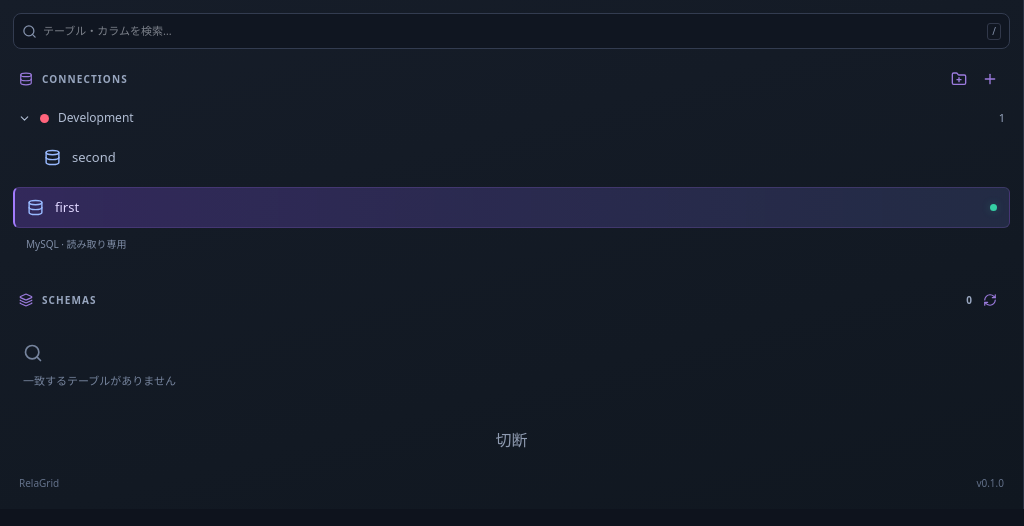
Scenario: opens the connection menu without connecting and deletes the right-clicked entry
This screenshot has width=1024, height=526.
Right-click the button "second" at [94, 157], box [30, 137, 1010, 178]
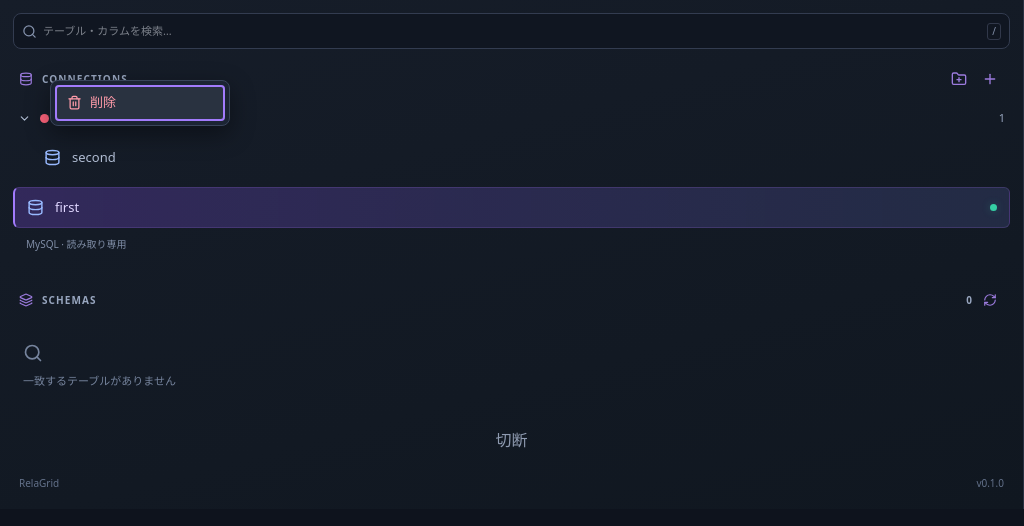
Press Escape in the menu item "削除", box [55, 85, 225, 120]
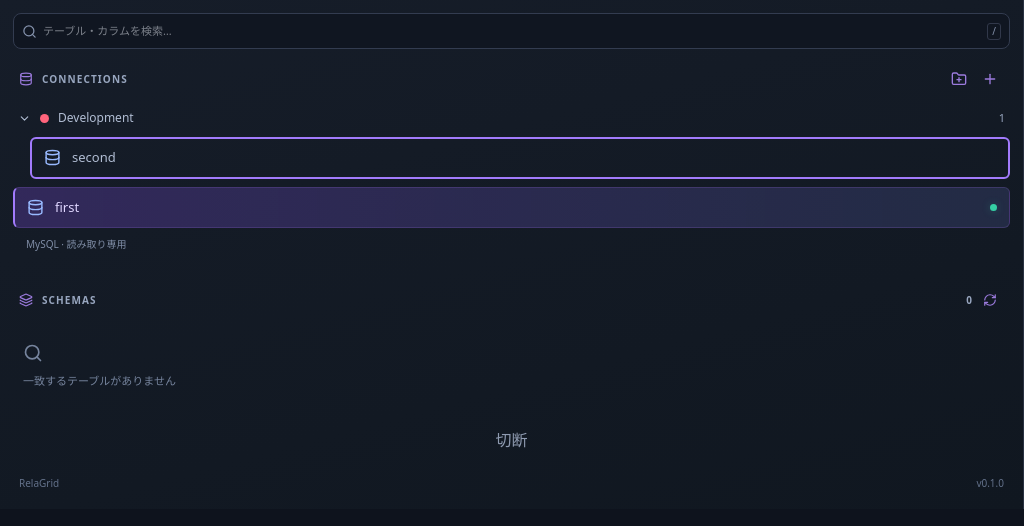
expect the menu is gone: met
Press F10 in the button "second", box [30, 137, 1010, 178]
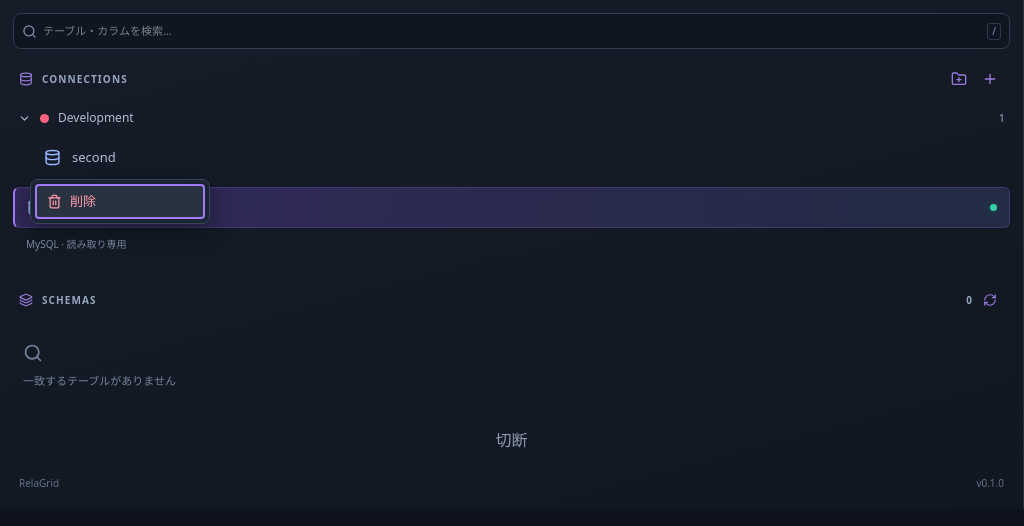
Click the menu item "削除" at [120, 201], box [35, 184, 205, 219]
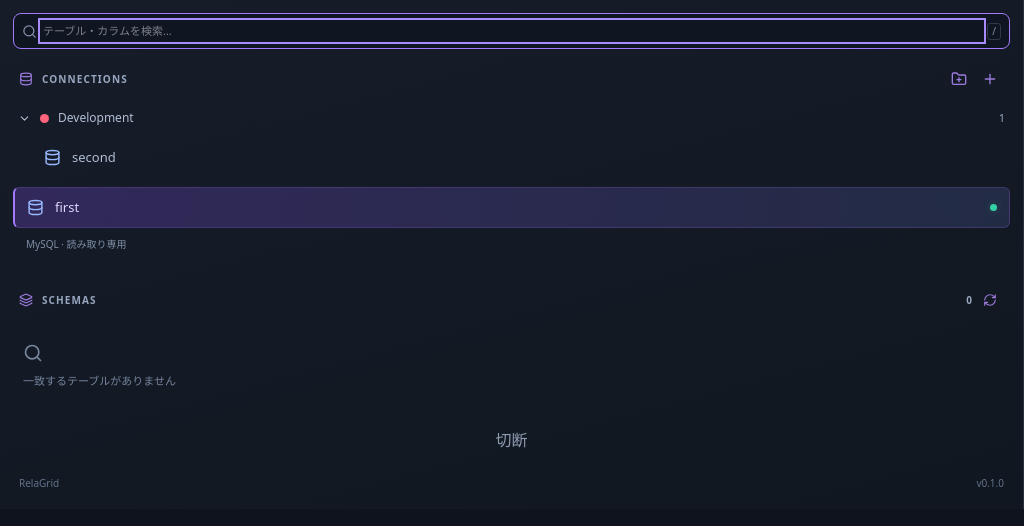
expect the menu is gone: met
